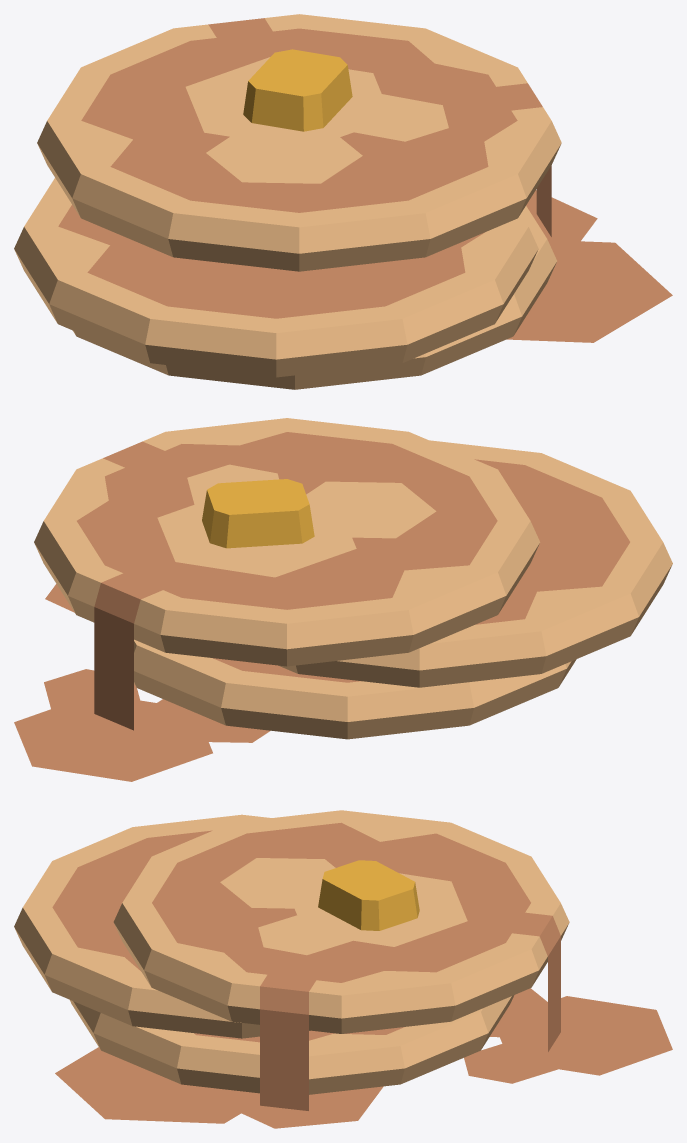
Rendered from pancakes.dae.
3 views of the same model, one above another, from view 1: azimuth 30°, elevation 25°; view 2: azimuth 150°, elevation 25°; view 3: azimuth 270°, elevation 25° (orthographic). The views are drawn at different scales.
Visible parts, largest first — view 1: pancake (×3), pancakes, butter; view 2: pancake (×3), pancakes, butter; view 3: pancake (×3), pancakes, butter.
Boxes of the visible parts, x1,y1,x2,y2 form: pancake (×3): (14,14,561,389); pancakes: (506,190,672,342); butter: (243,49,352,131); pancake (×3): (34,418,672,739); pancakes: (14,584,270,781); butter: (202,479,314,548); pancake (×3): (14,810,569,1110); pancakes: (55,988,672,1128); butter: (318,860,419,930).
Size of the model in its own units: 0.4355 by 0.1216 by 0.5039.
